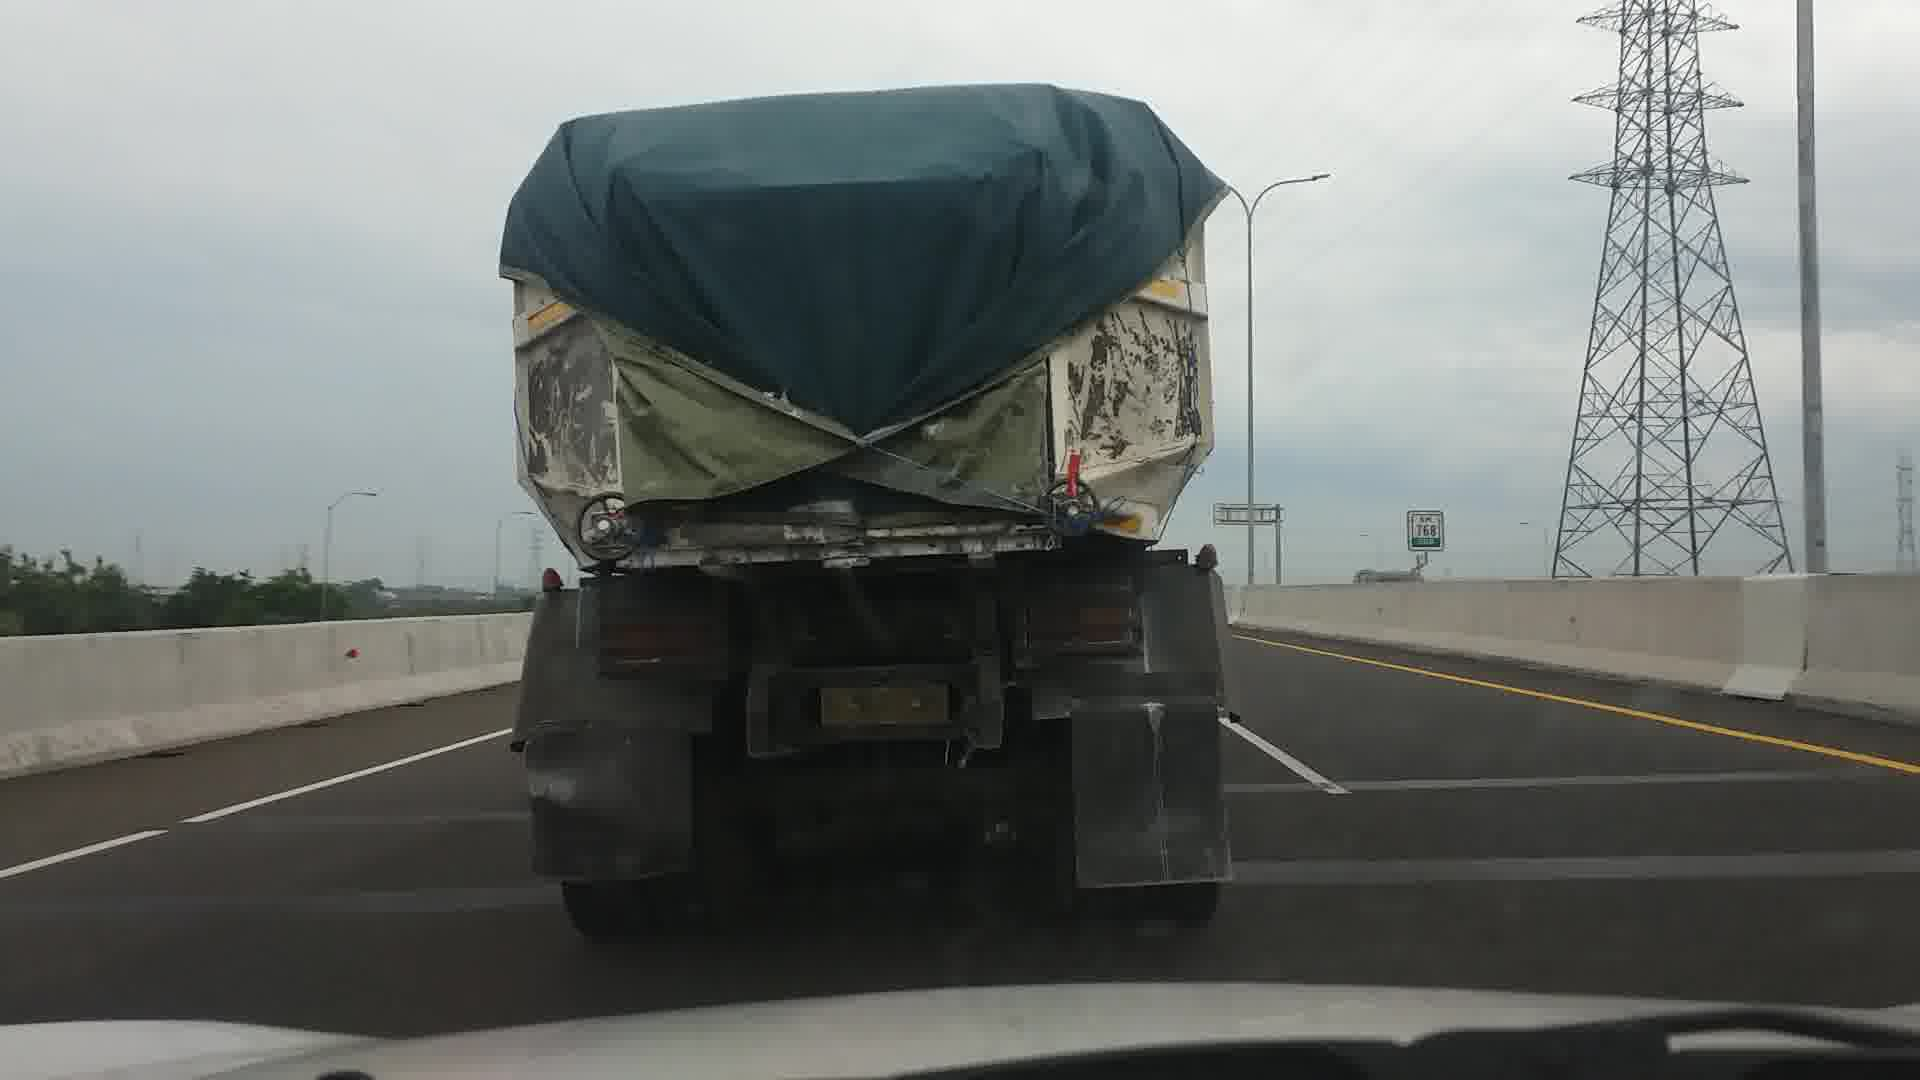plate_positive: (819, 680, 949, 727)
